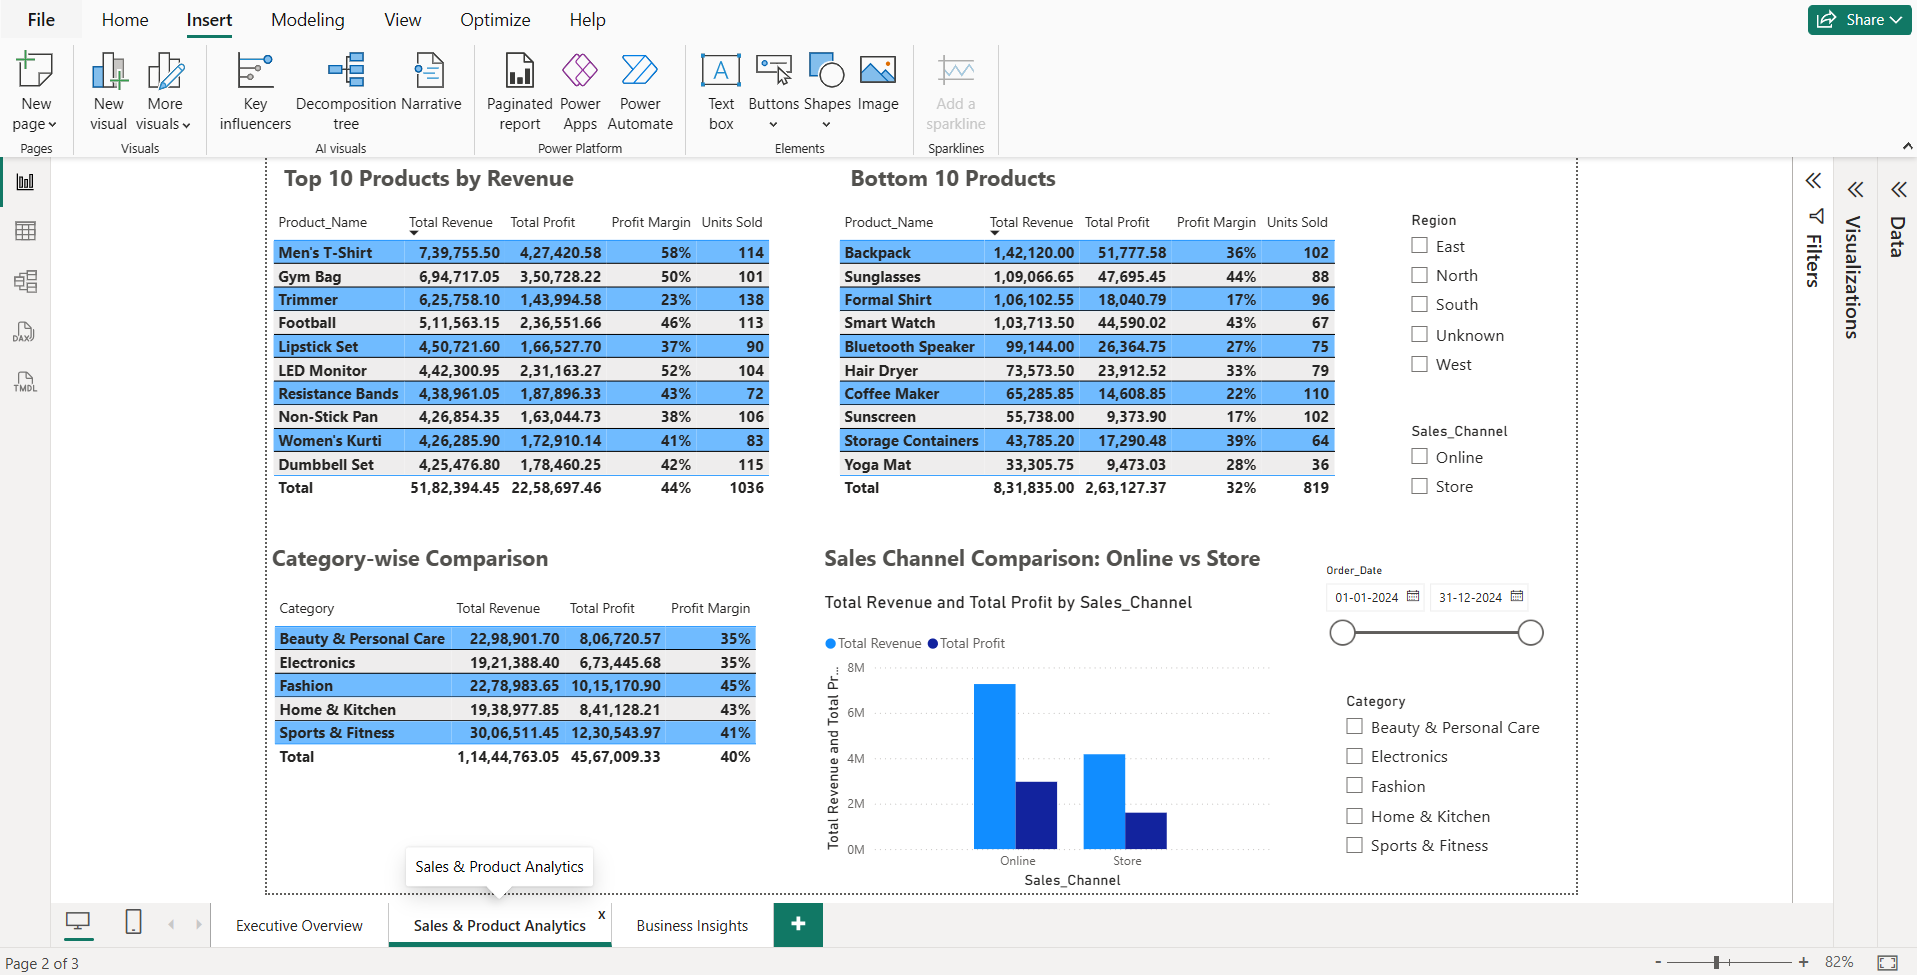

What the dashboard file says about the page in this screenshot:
{"tool":"powerbi","page":{"name":"Sales & Product Analytics","canvas":[1280,720],"ordinal":1},"visuals":[{"type":"tableEx","fields":{"Values":["OrdersClean.Product_Name","OrdersClean.Total Revenue","OrdersClean.Total Profit","OrdersClean.Profit Margin","OrdersClean.Units Sold"]},"box":[0,48,498.1,296.4],"z":0},{"type":"tableEx","fields":{"Values":["OrdersClean.Product_Name","OrdersClean.Total Revenue","OrdersClean.Total Profit","OrdersClean.Profit Margin","OrdersClean.Units Sold"]},"box":[554.4,48,498.1,296.4],"z":1000},{"type":"tableEx","fields":{"Values":["OrdersClean.Category","OrdersClean.Total Revenue","OrdersClean.Total Profit","OrdersClean.Profit Margin"]},"box":[1.4,425.4,498.1,183.9],"z":2000},{"type":"clusteredColumnChart","fields":{"Category":["OrdersClean.Sales_Channel"],"Y":["OrdersClean.Total Revenue","OrdersClean.Total Profit"]},"box":[540.7,425.4,446,295],"z":3000},{"type":"textbox","box":[0,0,318.4,38.4],"z":4000},{"type":"textbox","box":[554.4,0,498.1,48],"z":5000},{"type":"textbox","box":[0,371.7,497.7,40.4],"z":6000},{"type":"textbox","box":[540.7,371.9,446,53.5],"z":7000},{"type":"slicer","fields":{"Values":["OrdersClean.Category"]},"box":[1043.1,518.5,219.6,182.5],"z":8000},{"type":"slicer","fields":{"Values":["OrdersClean.Region"]},"box":[1106.7,47.7,135.7,176.1],"z":9000},{"type":"slicer","fields":{"Values":["OrdersClean.Sales_Channel"]},"box":[1106.7,254.3,150.4,89.3],"z":10000},{"type":"slicer","fields":{"Values":["OrdersClean.Order_Date"]},"box":[1023.5,392.5,233.6,91.7],"z":11000}]}

Visuals, with their boxes on the page's 1280x720 design canvas (x1, y1, x2, y2). These are canvas units, not pixel positions in the 1917x975 screenshot, which may show the page scaled, cropped or inside an application window:
tableEx - OrdersClean.Product_Name x OrdersClean.Total Revenue: 0 48 498 344
tableEx - OrdersClean.Product_Name x OrdersClean.Total Revenue: 554 48 1052 344
tableEx - OrdersClean.Category x OrdersClean.Total Revenue: 1 425 500 609
clusteredColumnChart - OrdersClean.Sales_Channel x OrdersClean.Total Revenue: 541 425 987 720
textbox: 0 0 318 38
textbox: 554 0 1052 48
textbox: 0 372 498 412
textbox: 541 372 987 425
slicer - OrdersClean.Category: 1043 518 1263 701
slicer - OrdersClean.Region: 1107 48 1242 224
slicer - OrdersClean.Sales_Channel: 1107 254 1257 344
slicer - OrdersClean.Order_Date: 1024 392 1257 484
